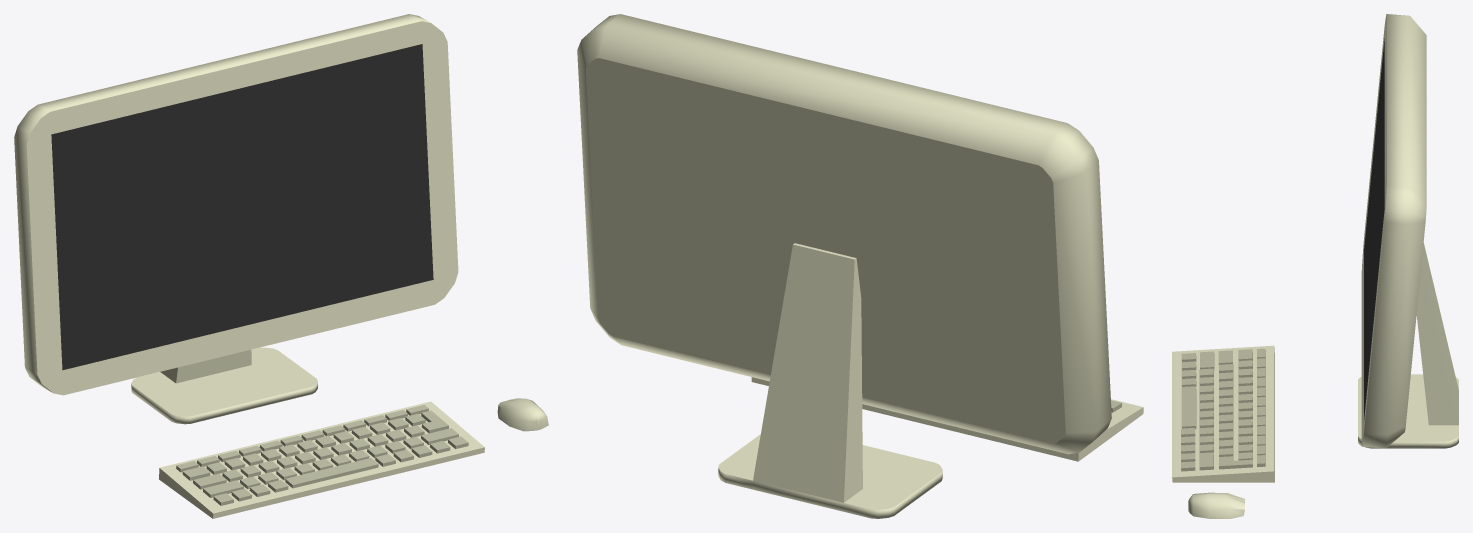
The model's file is computer.fbx.
3 views of the same model, side by side, from view 1: azimuth 30°, elevation 25°; view 2: azimuth 150°, elevation 25°; view 3: azimuth 270°, elevation 25° (orthographic). The views are drawn at different scales.
Visible parts, largest first — view 1: Computer, Keyboard, Cylinder; view 2: Computer, Keyboard; view 3: Computer, Keyboard, Cylinder.
Part boxes in pixels (x1=…): Computer: x1=14, y1=14, x2=458, y2=424; Keyboard: x1=159, y1=401, x2=484, y2=518; Cylinder: x1=497, y1=398, x2=548, y2=431; Computer: x1=577, y1=14, x2=1111, y2=518; Keyboard: x1=751, y1=377, x2=1143, y2=461; Computer: x1=1358, y1=14, x2=1458, y2=448; Keyboard: x1=1172, y1=345, x2=1274, y2=482; Cylinder: x1=1188, y1=492, x2=1244, y2=518.
Bounding box in the file's own units: 438 × 330 × 268.
